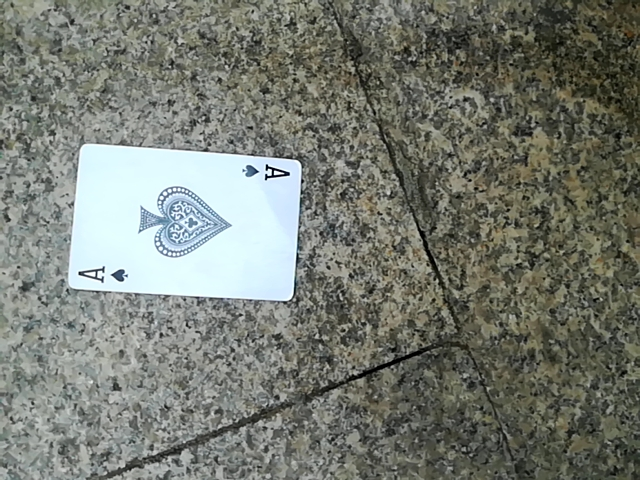ht a: (65, 149, 301, 298)
